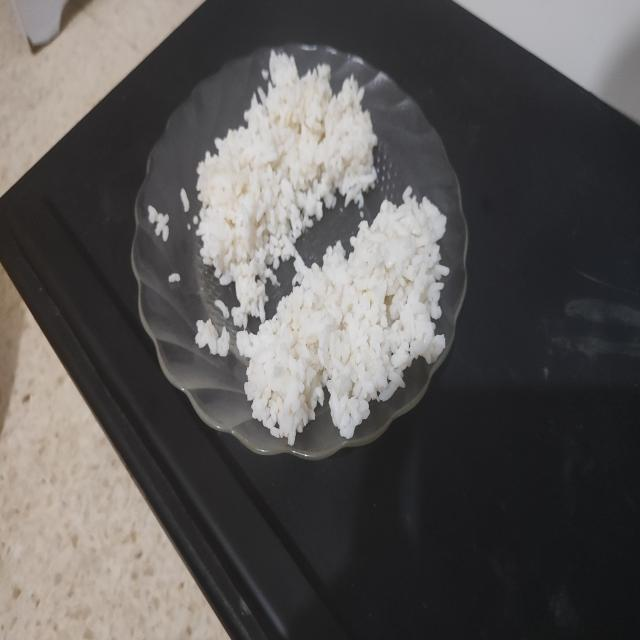nasi_putih: (237, 187, 449, 446), (196, 51, 378, 328)
